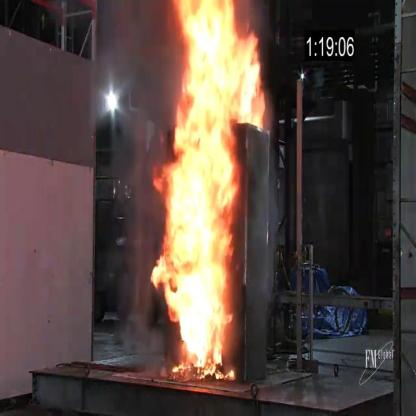fire: (150, 6, 269, 388)
